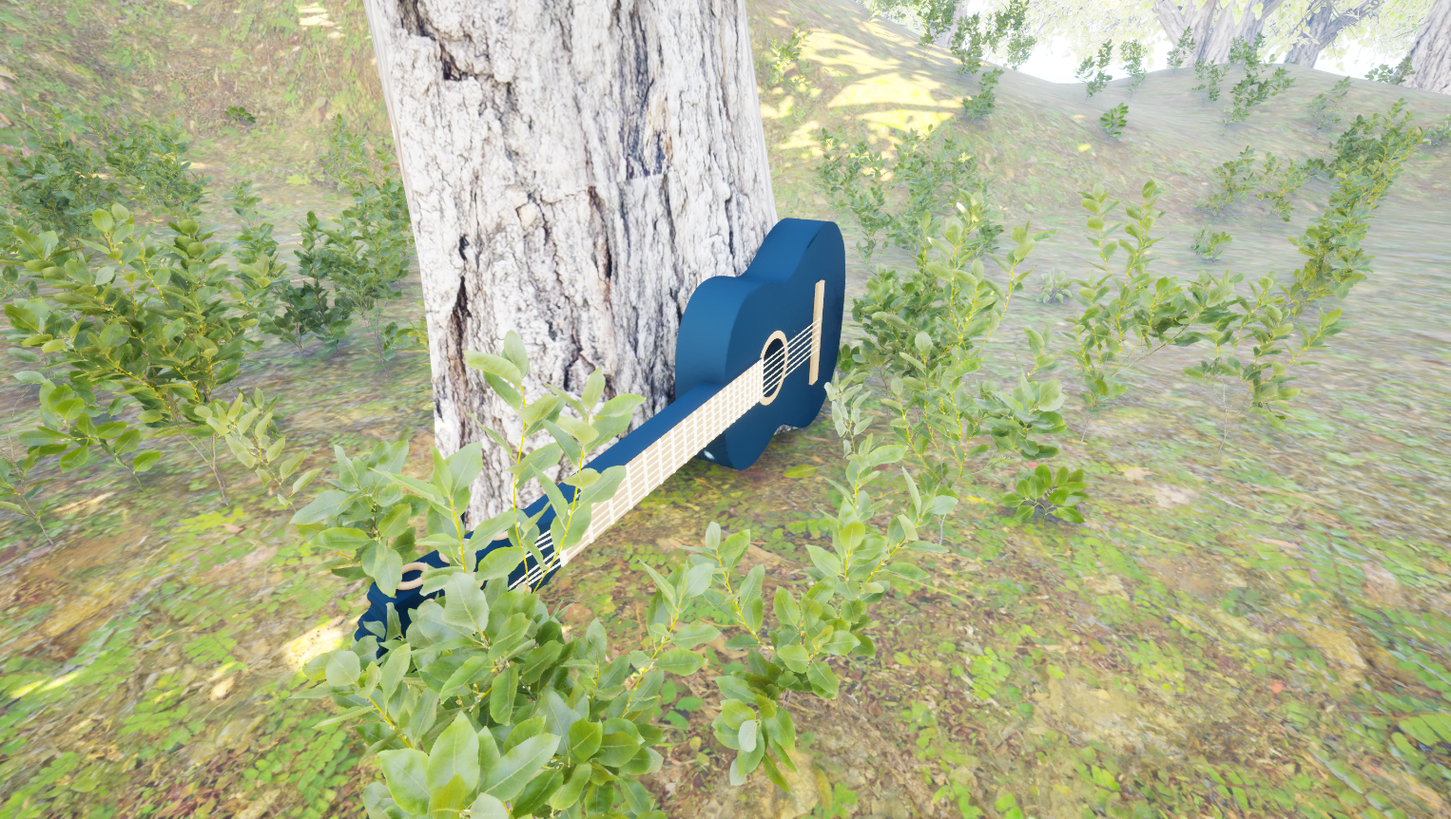Guitar: (245, 208, 856, 819)
